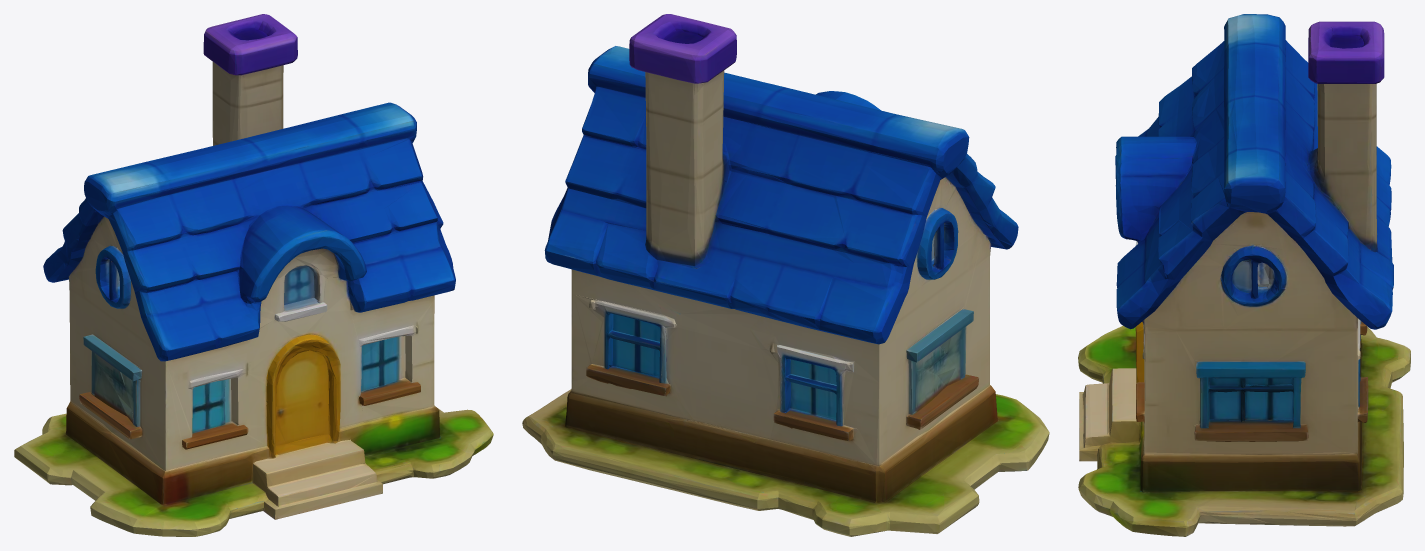
The model's file is blue_blue_roof_building.glb.
3 views of the same model, side by side, from view 1: azimuth 30°, elevation 25°; view 2: azimuth 150°, elevation 25°; view 3: azimuth 270°, elevation 25° (orthographic). The views are drawn at different scales.
Visible parts, largest first — view 1: geometry_0; view 2: geometry_0; view 3: geometry_0.
Part boxes in pixels (x1=…): geometry_0: x1=14, y1=14, x2=493, y2=536; geometry_0: x1=522, y1=14, x2=1049, y2=536; geometry_0: x1=1078, y1=14, x2=1410, y2=536.
Size of the model in its own units: 1 by 0.9421 by 0.6779.
1 material, 1 textured.
